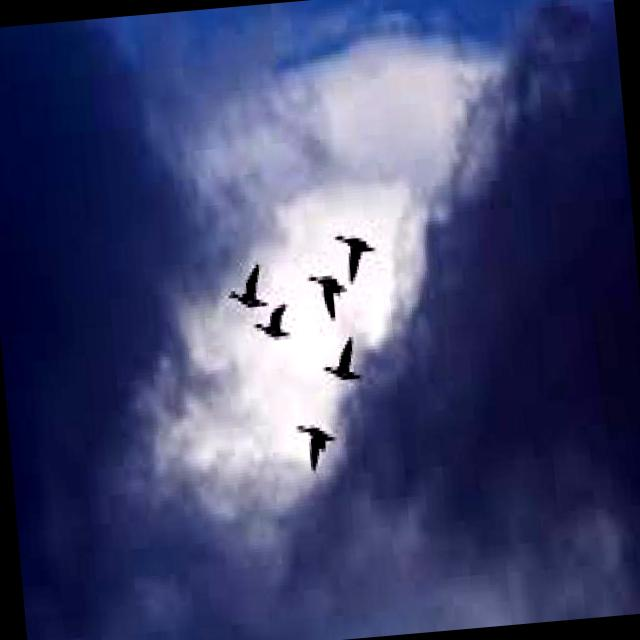bird: (270, 392, 352, 496), (316, 320, 381, 413), (294, 256, 362, 324), (334, 210, 391, 280), (222, 252, 277, 323), (246, 307, 296, 356)
